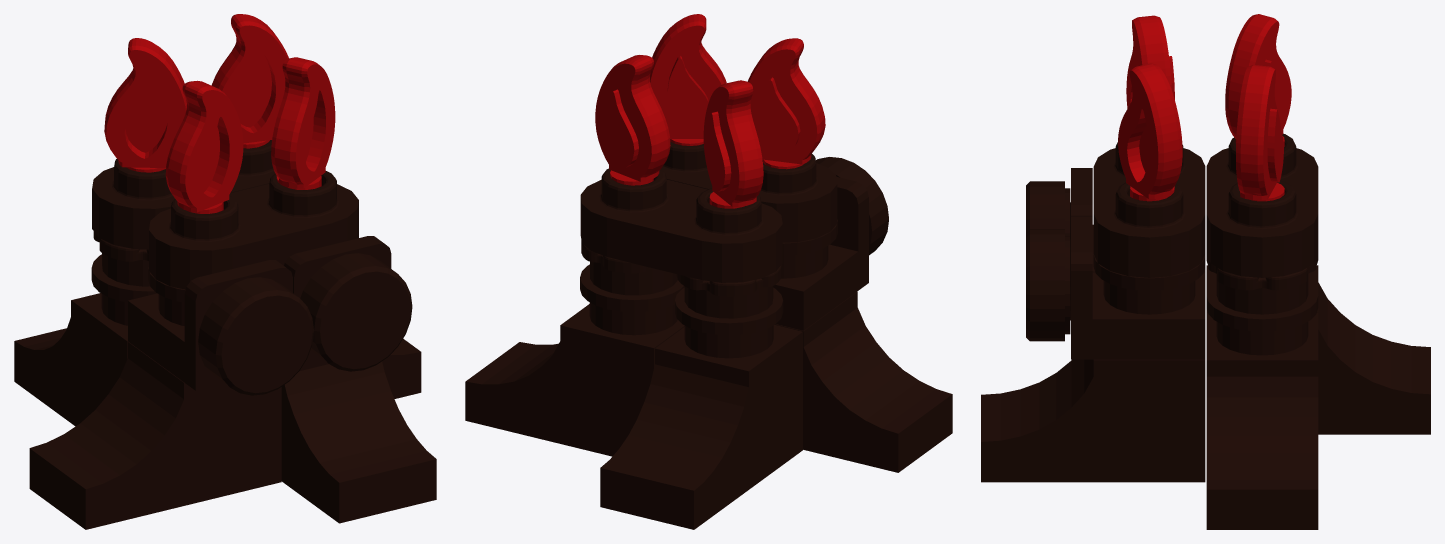
The model's file is Torchwood.dae.
3 renders of one model, left to right at view 1: azimuth 30°, elevation 25°; view 2: azimuth 150°, elevation 25°; view 3: azimuth 270°, elevation 25°, orthographic. The views are drawn at different scales.
Parts seen in each view (by area): view 1: Part.17, Part.14, Part.3, Part.18, Part.19, Part.16, Part.6, Part.9, Part.4, Part.8, Part.2, Part.7 (+5 smaller); view 2: Part.16, Part.15, Part.17, Part.2, Part.7, Part.9, Part.4, Part.3, Part.8, Part.6, Part.13, Part.12 (+4 smaller); view 3: Part.14, Part.15, Part.16, Part.2, Part.3, Part.5, Part.8, Part.7, Part.19, Part.12, Part.6, Part.10 (+4 smaller).
Boxes of the visible parts, <box> form: Part.17: <box>29,341,281,529</box>; Part.14: <box>281,360,436,523</box>; Part.3: <box>149,171,358,289</box>; Part.18: <box>198,277,313,395</box>; Part.19: <box>300,253,412,371</box>; Part.16: <box>14,293,127,426</box>; Part.6: <box>104,38,186,172</box>; Part.9: <box>165,80,243,213</box>; Part.4: <box>128,260,292,390</box>; Part.8: <box>271,57,335,189</box>; Part.2: <box>92,140,274,249</box>; Part.7: <box>211,14,288,148</box>; Part.16: <box>600,325,802,529</box>; Part.15: <box>465,304,684,456</box>; Part.17: <box>775,291,952,472</box>; Part.2: <box>580,168,782,282</box>; Part.7: <box>595,55,670,185</box>; Part.9: <box>747,38,825,169</box>; Part.4: <box>773,176,868,330</box>; Part.3: <box>661,141,837,242</box>; Part.8: <box>650,14,726,145</box>; Part.6: <box>703,80,763,208</box>; Part.13: <box>675,287,783,358</box>; Part.12: <box>580,264,684,335</box>; Part.14: <box>981,359,1205,482</box>; Part.15: <box>1206,313,1318,529</box>; Part.16: <box>1206,265,1430,434</box>; Part.2: <box>1206,133,1318,277</box>; Part.3: <box>1093,142,1205,277</box>; Part.5: <box>1070,215,1205,359</box>; Part.8: <box>1118,63,1182,201</box>; Part.7: <box>1236,65,1284,201</box>; Part.19: <box>1026,229,1070,341</box>; Part.12: <box>1206,282,1318,355</box>; Part.6: <box>1225,14,1291,146</box>; Part.10: <box>1093,255,1205,314</box>.
Size of the model in its own units: 31.92 by 30.46 by 31.92.
